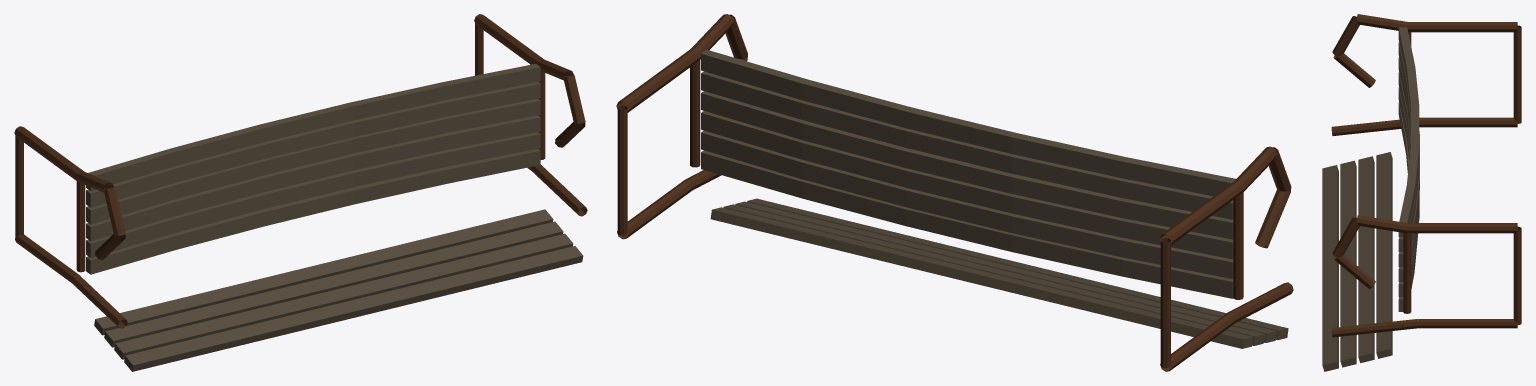
The model's file is VD_Bench_Municipal_Damaged.obj.
The picture shows the model from 3 angles, left to right: view 1: azimuth 30°, elevation 25°; view 2: azimuth 150°, elevation 25°; view 3: azimuth 270°, elevation 25°; orthographic projection. The views are drawn at different scales.
Parts seen in each view (by area): view 1: VD_Bench_Municipal_Damaged; view 2: VD_Bench_Municipal_Damaged; view 3: VD_Bench_Municipal_Damaged.
Part boxes in pixels (x1=…): VD_Bench_Municipal_Damaged: x1=14, y1=14, x2=587, y2=371; VD_Bench_Municipal_Damaged: x1=616, y1=14, x2=1293, y2=371; VD_Bench_Municipal_Damaged: x1=1322, y1=14, x2=1521, y2=371.
Size of the model in its own units: 194 by 69.87 by 79.46.
